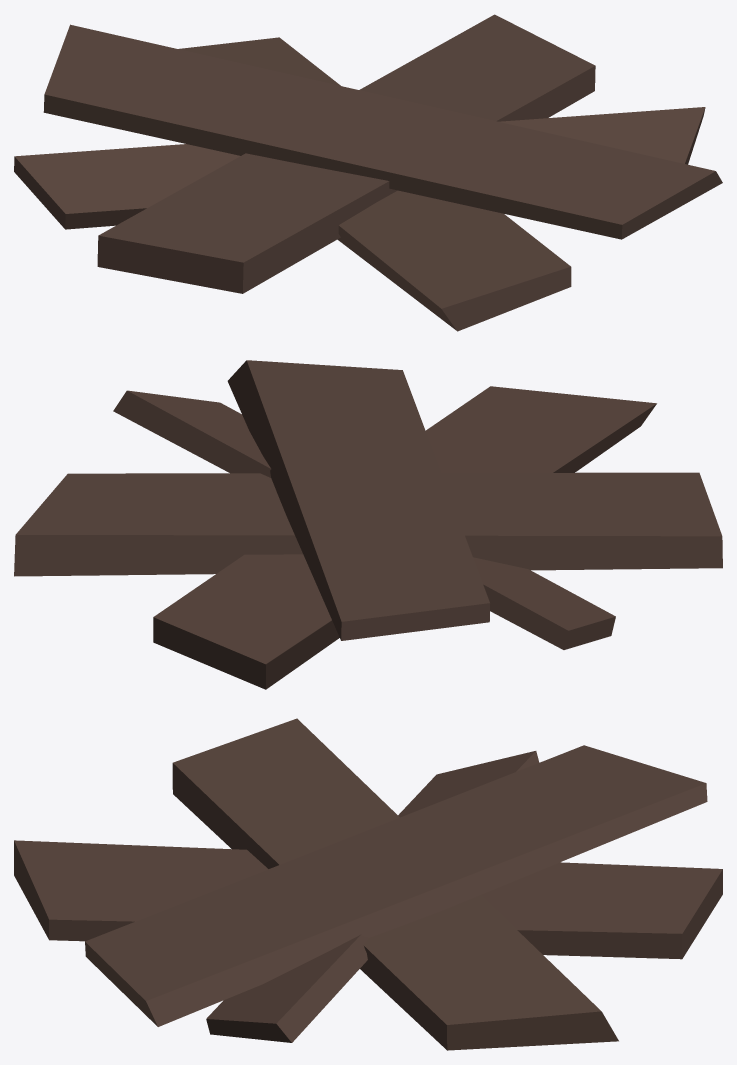
Rendered from Fire Wood.fbx.
3 renders of one model, top to bottom at view 1: azimuth 30°, elevation 25°; view 2: azimuth 150°, elevation 25°; view 3: azimuth 270°, elevation 25°, orthographic.
Visible parts, largest first — view 1: Fire_Wood; view 2: Fire_Wood; view 3: Fire_Wood.
Part boxes in pixels (x1,y1,x2,y2): Fire_Wood: (14, 14, 722, 331); Fire_Wood: (14, 360, 722, 689); Fire_Wood: (14, 718, 722, 1050).
Size of the model in its own units: 2.12 by 0.2595 by 2.13.
